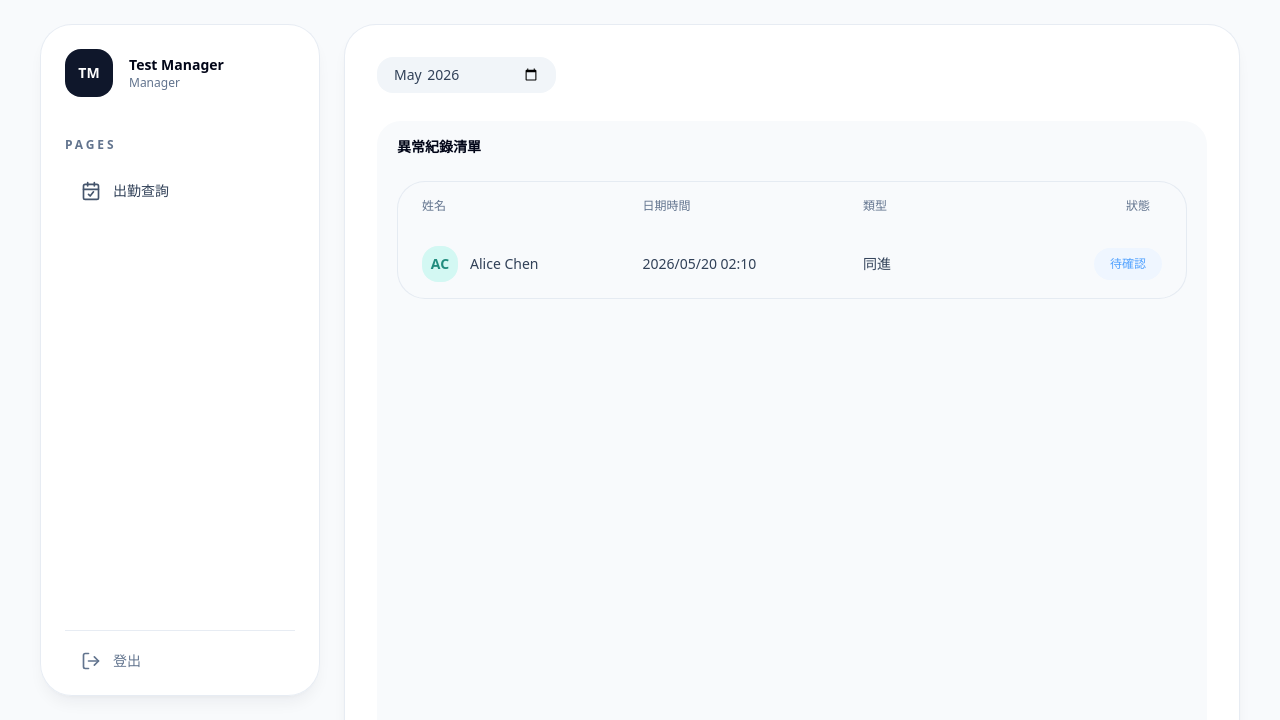
Test: AnomaliesPage › shows an update error without changing the status
Click the button "待確認". click: (1128, 264)
box: [1094,248,1162,280]
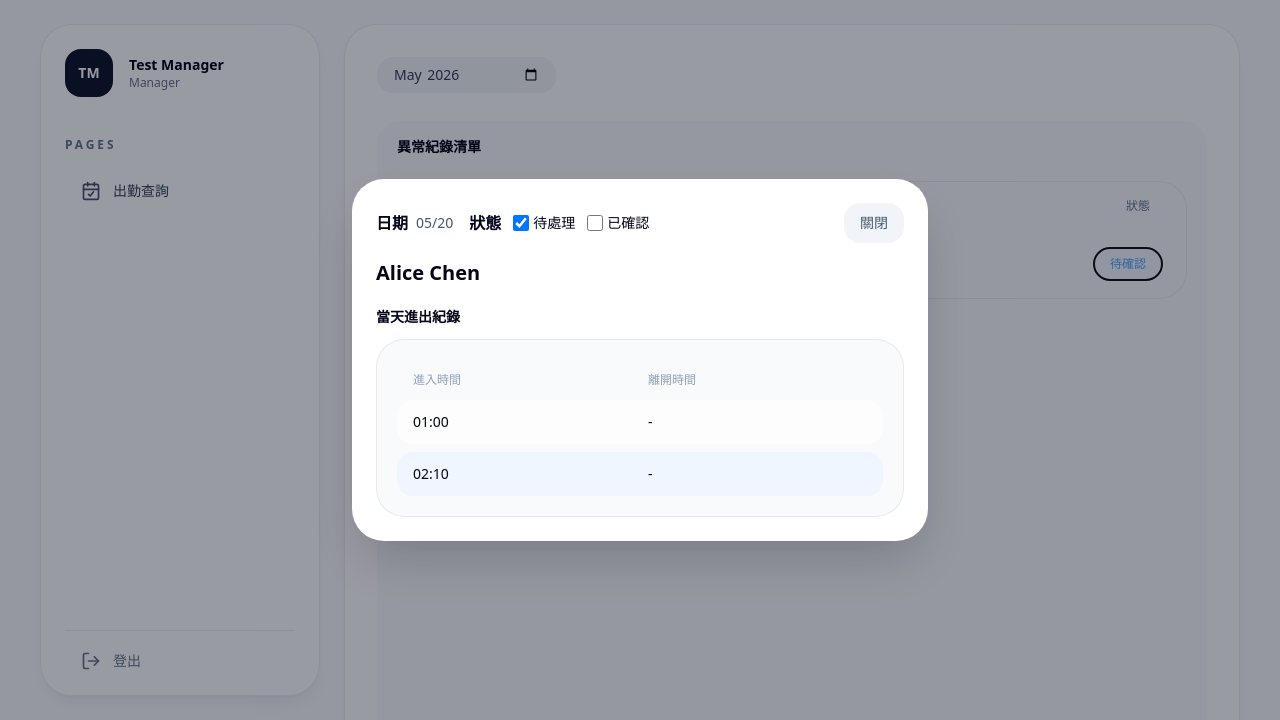
Click the checkbox labelled "已確認". click: (595, 223)
box: [587,215,603,231]
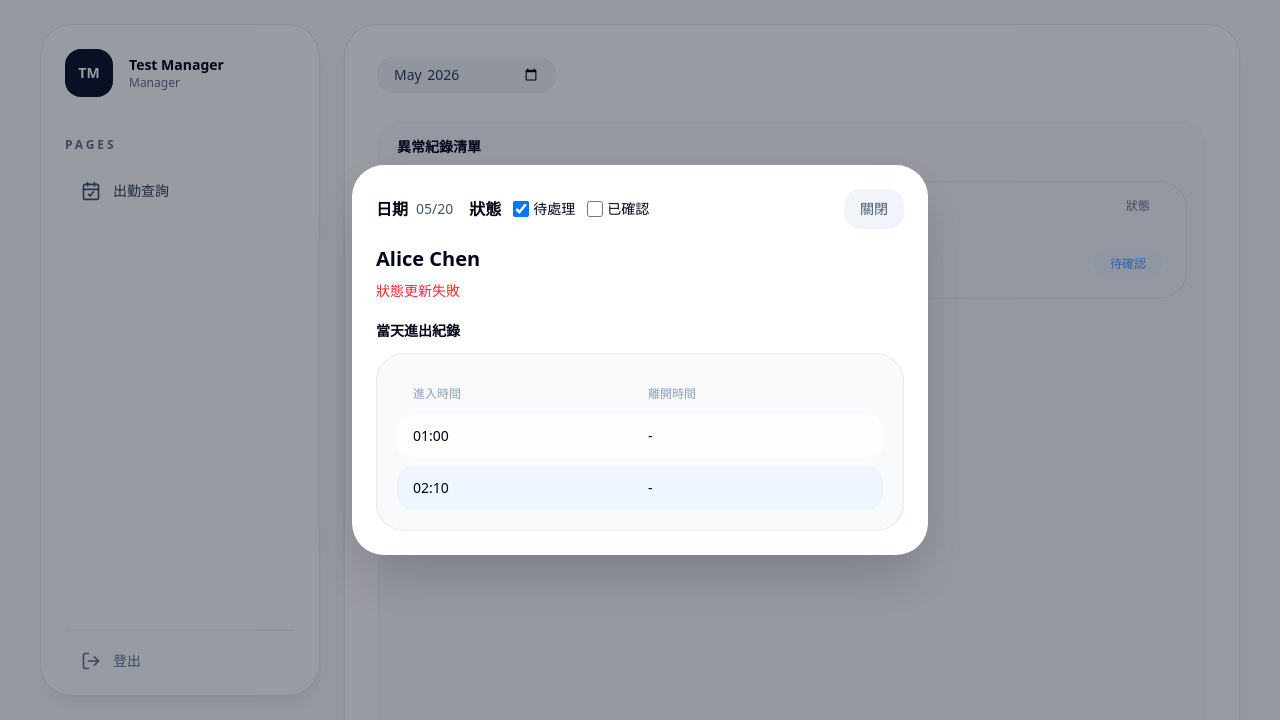
expect the button "待確認" is shown: met, box [1094,248,1162,280]
expect the text "狀態更新失敗" is shown: met, box [376,281,460,300]
